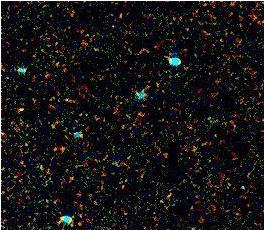star: (3, 93, 33, 123)
